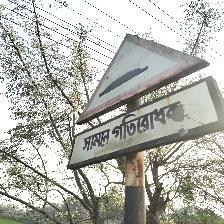Speed-breaker: (67, 33, 223, 168)
